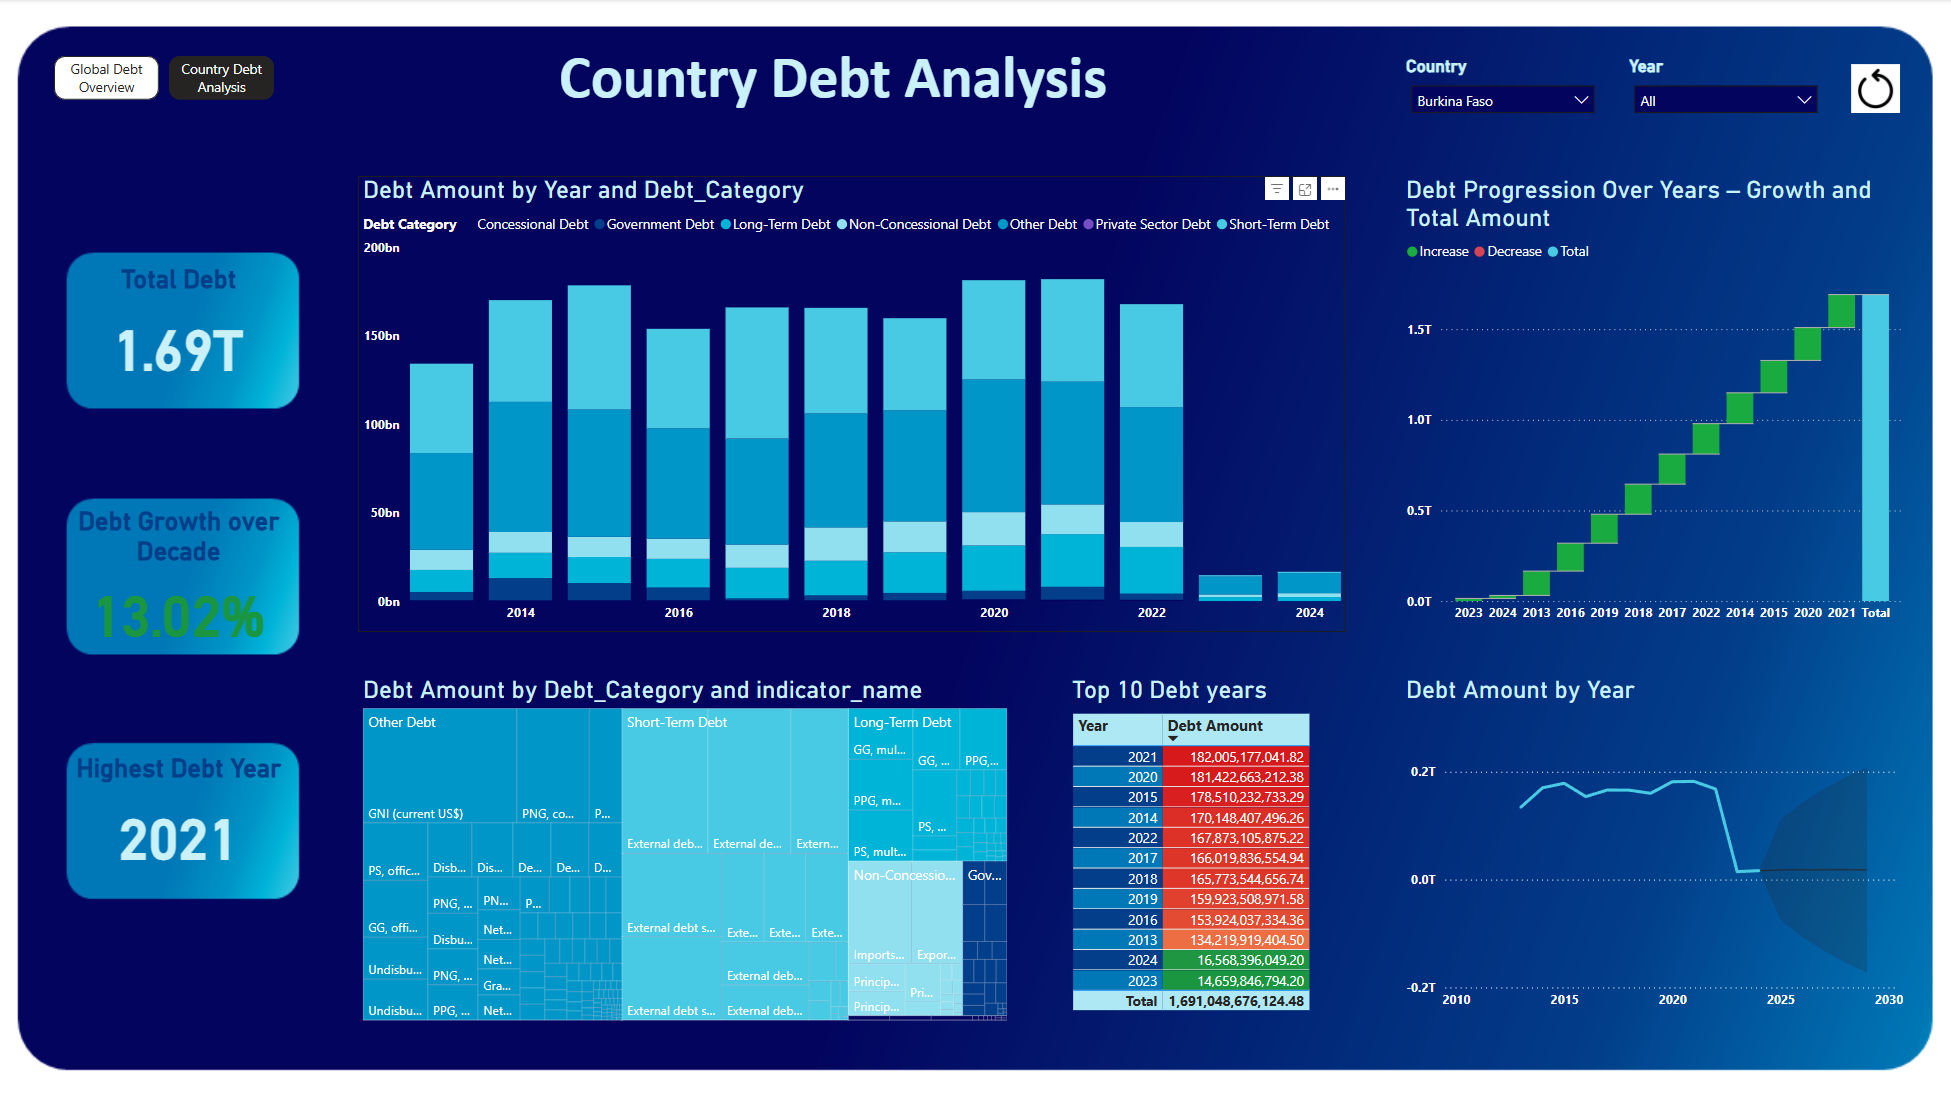

This screenshot's page, from the dashboard's own definition file:
{"tool":"powerbi","page":{"name":"Country Debt Analysis","canvas":[1920,1080],"ordinal":1},"visuals":[{"type":"slicer","title":"Country","fields":{"Values":["ids_database.country_name"]},"box":[1377.1,56.3,199.7,64],"z":0},{"type":"lineChart","title":"Debt Amount by Year","fields":{"Category":["ids_database.Year"],"Y":["Sum(ids_database.Debt Amount)"]},"box":[1377.2,664.5,497.7,335.7],"z":1000},{"type":"columnChart","title":"Debt Amount by Year and Debt_Category","fields":{"Category":["ids_database.Year"],"Y":["Sum(ids_database.Debt Amount)"],"Series":["ids_database.Debt_Category"]},"box":[353.4,173.7,969.8,447.6],"z":2000},{"type":"treemap","title":"Debt Amount by Debt_Category and indicator_name","fields":{"Values":["Sum(ids_database.Debt Amount)"],"Group":["ids_database.Debt_Category"],"Details":["ids_database.indicator_name"]},"box":[353.4,664.5,642,342.6],"z":3000},{"type":"tableEx","title":"Top 10 Debt years","fields":{"Values":["ids_database.Year","Sum(ids_database.Debt Amount)"]},"box":[1049.3,664.5,273.9,335.7],"z":4000},{"type":"waterfallChart","title":"Debt Progression Over Years – Growth and Total Amount","fields":{"Category":["ids_database.Year"],"Y":["Sum(ids_database.Debt Amount)"]},"box":[1377.2,173.7,497.7,447.6],"z":5000},{"type":"cardVisual","title":"Total Debt","fields":{"Data":["ids_database._Total_Country_Debt"]},"box":[55.2,260.4,245,136.8],"z":6000},{"type":"cardVisual","title":"Debt Growth over Decade","fields":{"Data":["ids_database._Global_Debt_Growth"]},"box":[55.2,497.7,245,136.8],"z":7000},{"type":"cardVisual","title":"Highest Debt Year","fields":{"Data":["ids_database._Highest_Debt_Year_Country"]},"box":[55.2,740.4,245,136.8],"z":8000},{"type":"textbox","box":[545.8,35.3,584,91.3],"z":9000},{"type":"slicer","title":"Year","fields":{"Values":["ids_database.Year"]},"box":[1595.6,56.3,199.7,64],"z":10000},{"type":"image","box":[1811.9,58.5,62.9,58.5],"z":11000},{"type":"pageNavigator","box":[54.7,55.9,217.8,43.3],"z":13001}]}

Visuals, with their boxes in screenshot pixels (x1, y1, x2, y2), scaled from the page's 1920x1080 canvas onto the 1951x1097 screenshot:
"Country" slicer: Rect(1399, 57, 1602, 122)
"Debt Amount by Year" lineChart: Rect(1399, 675, 1905, 1016)
"Debt Amount by Year and Debt_Category" columnChart: Rect(359, 176, 1345, 631)
"Debt Amount by Debt_Category and indicator_name" treemap: Rect(359, 675, 1011, 1023)
"Top 10 Debt years" tableEx: Rect(1066, 675, 1345, 1016)
"Debt Progression Over Years – Growth and Total Amount" waterfallChart: Rect(1399, 176, 1905, 631)
"Total Debt" cardVisual: Rect(56, 264, 305, 403)
"Debt Growth over Decade" cardVisual: Rect(56, 506, 305, 644)
"Highest Debt Year" cardVisual: Rect(56, 752, 305, 891)
textbox: Rect(555, 36, 1148, 129)
"Year" slicer: Rect(1621, 57, 1824, 122)
image: Rect(1841, 59, 1905, 119)
pageNavigator: Rect(56, 57, 277, 101)
